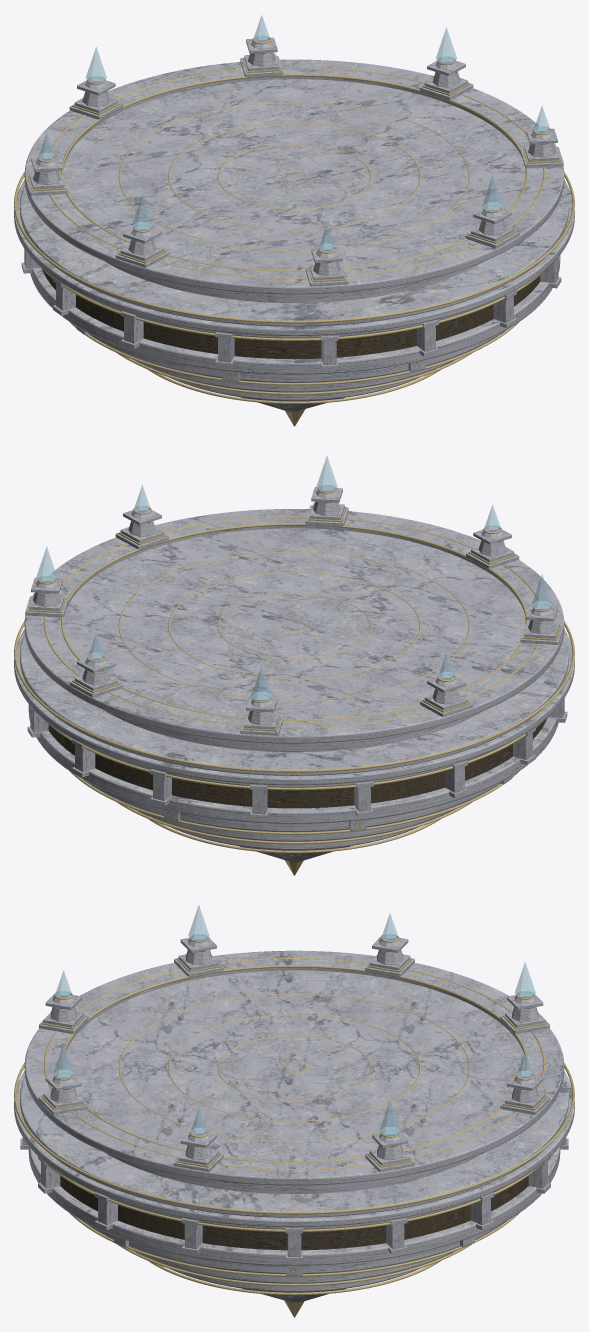
File: arena_platform_stage2.glb
3 renders of one model, top to bottom at view 1: azimuth 30°, elevation 25°; view 2: azimuth 150°, elevation 25°; view 3: azimuth 270°, elevation 25°, orthographic.
Parts seen in each view (by area): view 1: PlayFloor_Core, Walkway, Cornice1, TierBridge, WallRing, Cornice2, PlayFloor_Stage2_Wedge_04, PlayFloor_Stage2_Wedge_01, PlayFloor_Stage2_Wedge_06, PlayFloor_Stage2_Wedge_02, PlayFloor_Stage2_Wedge_03, PlayFloor_Stage2_Wedge_05 (+14 smaller); view 2: PlayFloor_Core, Walkway, Cornice1, TierBridge, WallRing, Cornice2, PlayFloor_Stage2_Wedge_04, PlayFloor_Stage2_Wedge_06, PlayFloor_Stage2_Wedge_02, PlayFloor_Stage2_Wedge_05, PlayFloor_Stage2_Wedge_01, PlayFloor_Stage2_Wedge_03 (+15 smaller); view 3: PlayFloor_Core, Walkway, Cornice1, TierBridge, WallRing, Cornice2, PlayFloor_Stage2_Wedge_04, PlayFloor_Stage2_Wedge_06, PlayFloor_Stage2_Wedge_01, PlayFloor_Stage2_Wedge_03, PlayFloor_Stage2_Wedge_02, PlayFloor_Stage2_Wedge_05 (+14 smaller).
Boxes of the visible parts, box(x1,y1,x2,y2) form: PlayFloor_Core: box(114, 100, 478, 253); Walkway: box(24, 59, 564, 294); Cornice1: box(20, 184, 568, 326); TierBridge: box(30, 255, 560, 374); WallRing: box(42, 269, 540, 359); Cornice2: box(14, 180, 574, 335); PlayFloor_Stage2_Wedge_04: box(104, 219, 354, 302); PlayFloor_Stage2_Wedge_01: box(247, 79, 471, 128); PlayFloor_Stage2_Wedge_06: box(432, 114, 525, 210); PlayFloor_Stage2_Wedge_02: box(80, 81, 256, 148); PlayFloor_Stage2_Wedge_03: box(63, 140, 140, 228); PlayFloor_Stage2_Wedge_05: box(342, 206, 483, 299); PlayFloor_Core: box(112, 548, 475, 702); Walkway: box(24, 509, 564, 743); Cornice1: box(20, 633, 568, 775); TierBridge: box(28, 704, 558, 823); WallRing: box(48, 718, 546, 808); Cornice2: box(14, 629, 574, 785); PlayFloor_Stage2_Wedge_04: box(422, 557, 525, 669); PlayFloor_Stage2_Wedge_06: box(77, 529, 268, 599); PlayFloor_Stage2_Wedge_02: box(121, 678, 326, 752); PlayFloor_Stage2_Wedge_05: box(263, 528, 457, 571); PlayFloor_Stage2_Wedge_01: box(63, 592, 157, 718); PlayFloor_Stage2_Wedge_03: box(319, 661, 496, 751); PlayFloor_Core: box(116, 991, 477, 1143); Walkway: box(24, 950, 564, 1185); Cornice1: box(20, 1075, 568, 1217); TierBridge: box(28, 1147, 560, 1265); WallRing: box(60, 1176, 528, 1250); Cornice2: box(14, 1071, 574, 1227); PlayFloor_Stage2_Wedge_04: box(70, 970, 284, 1048); PlayFloor_Stage2_Wedge_06: box(111, 1116, 334, 1194); PlayFloor_Stage2_Wedge_01: box(325, 1092, 507, 1192); PlayFloor_Stage2_Wedge_03: box(282, 970, 476, 1021); PlayFloor_Stage2_Wedge_02: box(435, 1008, 525, 1097); PlayFloor_Stage2_Wedge_05: box(63, 1043, 148, 1155).
Bounding box in the file's own units: 21 × 13.04 × 21.
6 materials, 4 textured.
